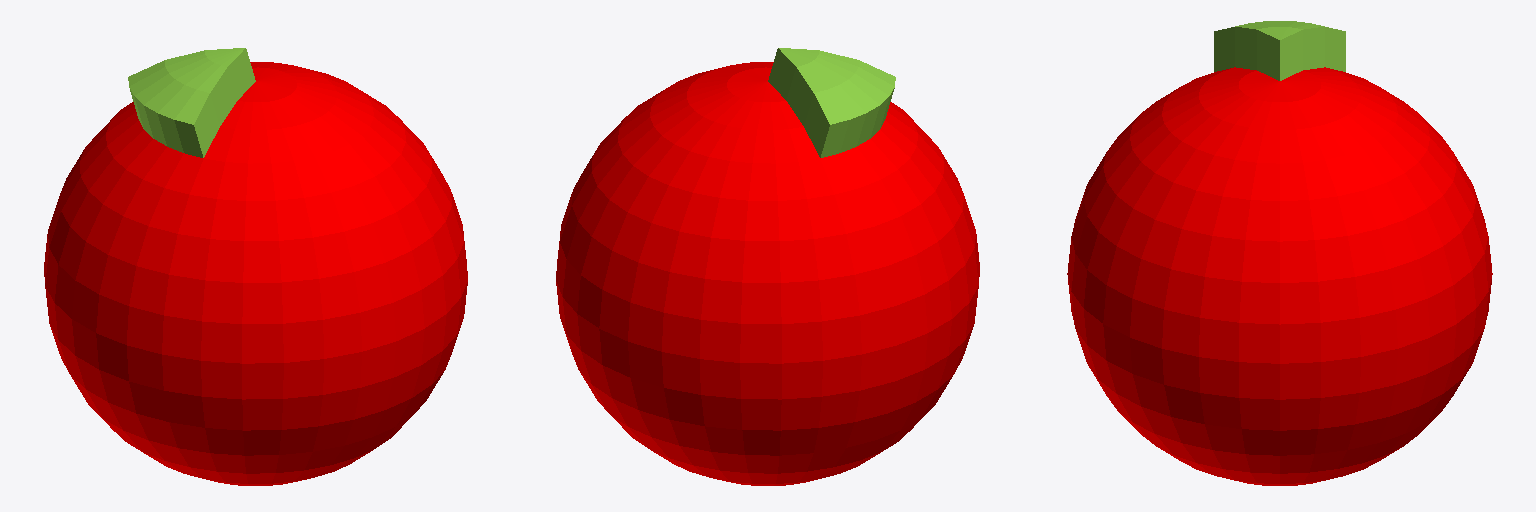
3 renders of one model, left to right at view 1: azimuth 30°, elevation 25°; view 2: azimuth 150°, elevation 25°; view 3: azimuth 270°, elevation 25°, orthographic.
Parts seen in each view (by area): view 1: Sphere; view 2: Sphere; view 3: Sphere.
Boxes of the visible parts, box(x1,y1,x2,y2) form: Sphere: box(44, 48, 467, 485); Sphere: box(556, 48, 979, 485); Sphere: box(1067, 21, 1492, 485).
Bounding box in the file's own units: 2 × 2.19 × 2.
1 materials, 1 textured.